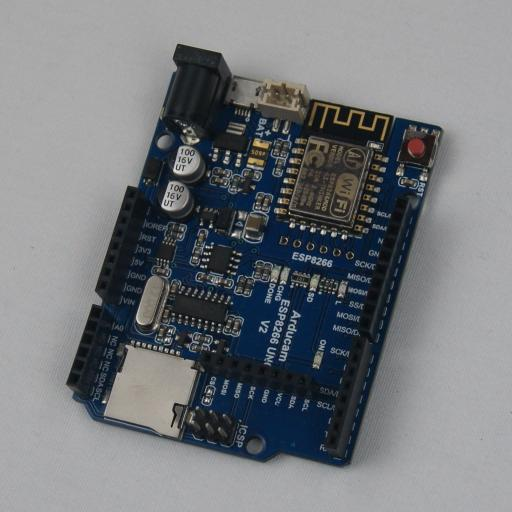Arduino Uno Camera Shield: (66, 44, 443, 467)
